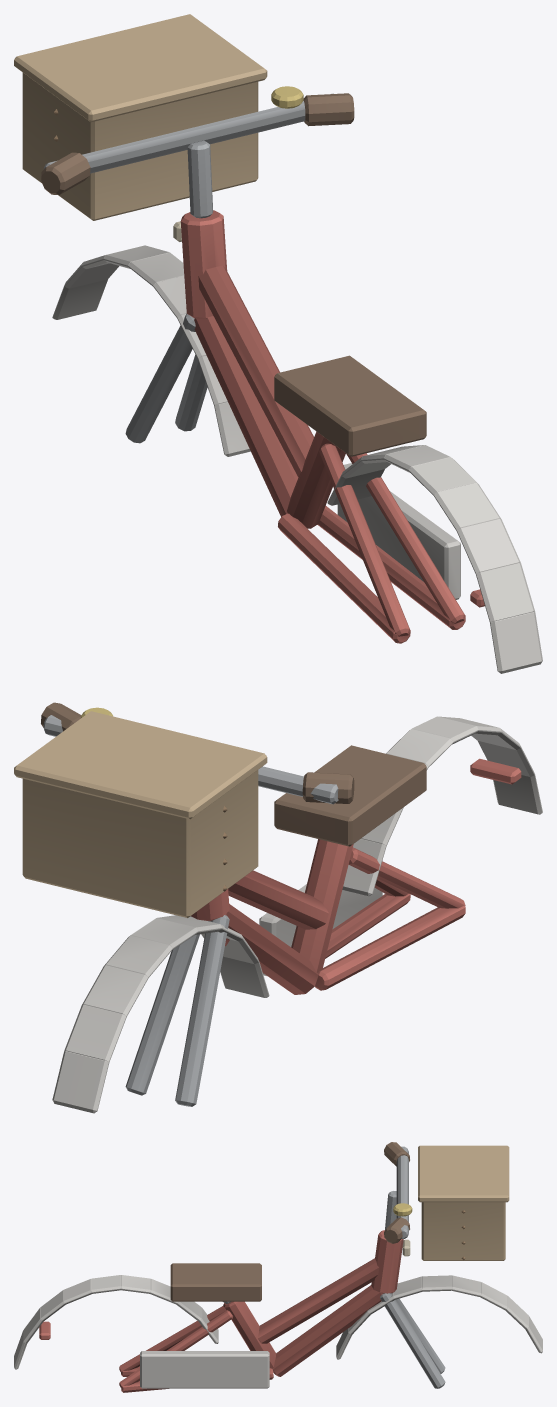
File: bike_frame__red.glb
3 renders of one model, top to bottom at view 1: azimuth 30°, elevation 25°; view 2: azimuth 150°, elevation 25°; view 3: azimuth 270°, elevation 25°, orthographic. The views are drawn at different scales.
Size of the model in its own units: 0.5544 by 0.6206 by 1.39.
